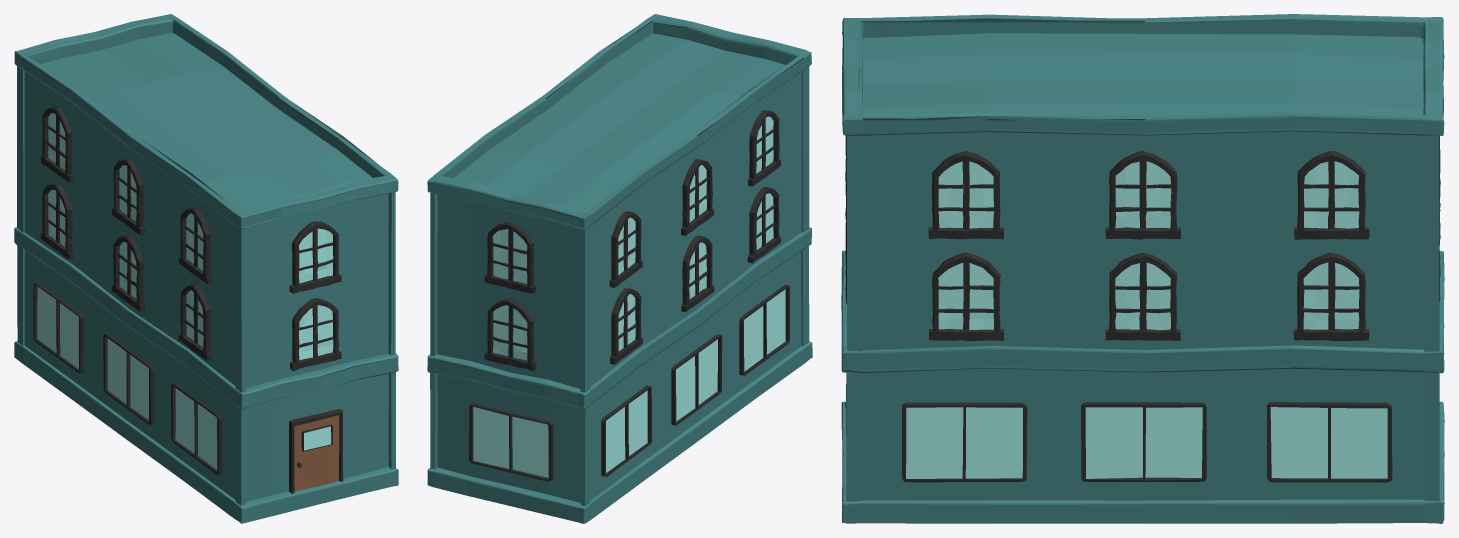
File: school 2 full window(ada pintu).fbx
3 renders of one model, left to right at view 1: azimuth 30°, elevation 25°; view 2: azimuth 150°, elevation 25°; view 3: azimuth 270°, elevation 25°, orthographic. The views are drawn at different scales.
Parts seen in each view (by area): view 1: Cube.049; view 2: Cube.049; view 3: Cube.049.
Boxes of the visible parts, box(x1,y1,x2,y2) form: Cube.049: box(14, 14, 398, 523); Cube.049: box(427, 14, 812, 523); Cube.049: box(841, 14, 1444, 523).
Size of the model in its own units: 576 by 1059 by 1413.
